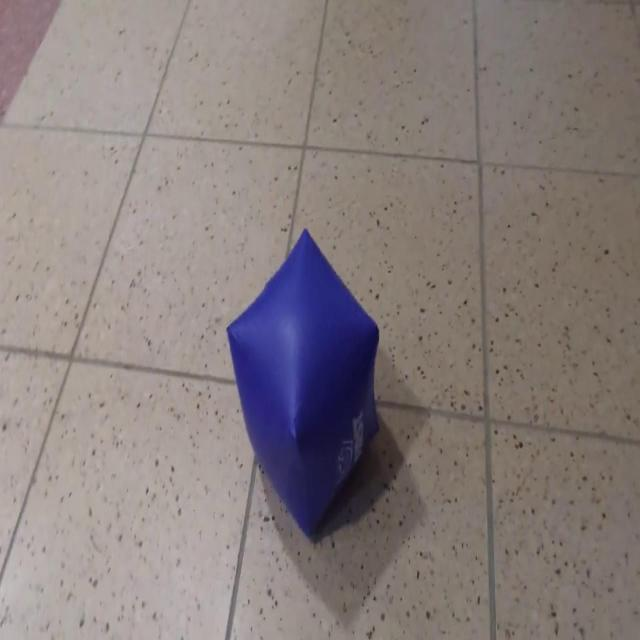frc_cube: (228, 229, 380, 531)
